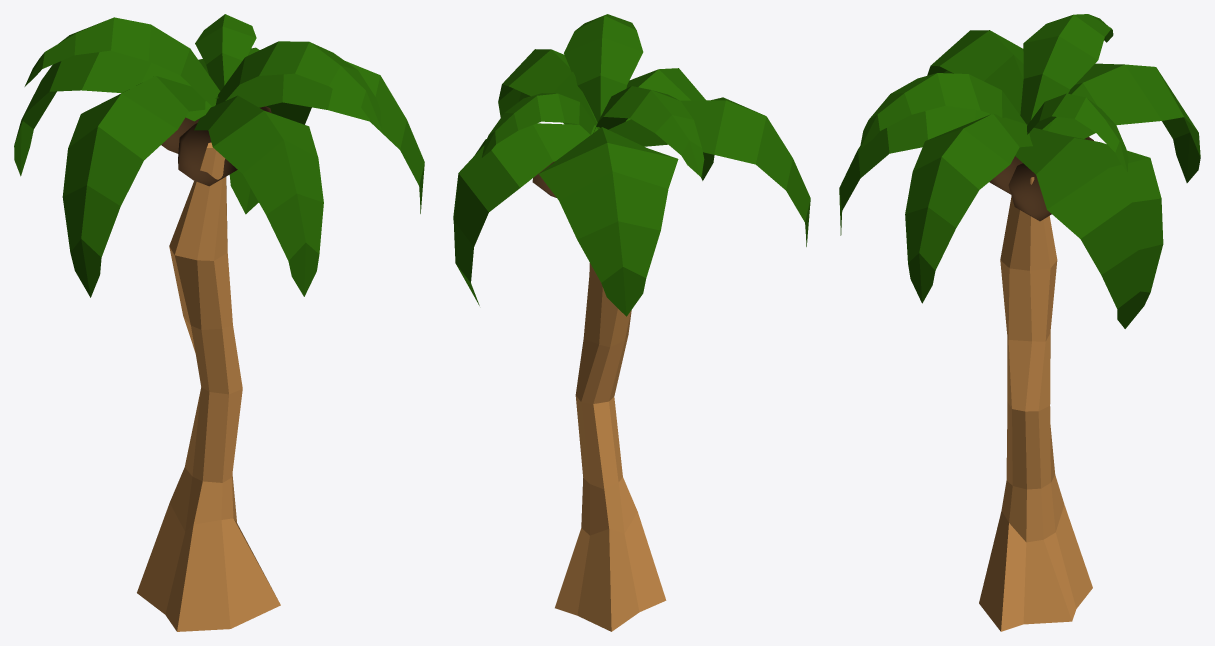
File: Palmera 1.fbx
The picture shows the model from 3 angles, left to right: view 1: azimuth 30°, elevation 25°; view 2: azimuth 150°, elevation 25°; view 3: azimuth 270°, elevation 25°; orthographic projection. The views are drawn at different scales.
Parts seen in each view (by area): view 1: Plane.003; view 2: Plane.003; view 3: Plane.003.
Boxes of the visible parts, left/top/right/bottom form: Plane.003: left=14, top=14, right=424, bottom=631; Plane.003: left=453, top=14, right=810, bottom=631; Plane.003: left=839, top=14, right=1200, bottom=631.
Size of the model in its own units: 1675 by 2780 by 1631.
